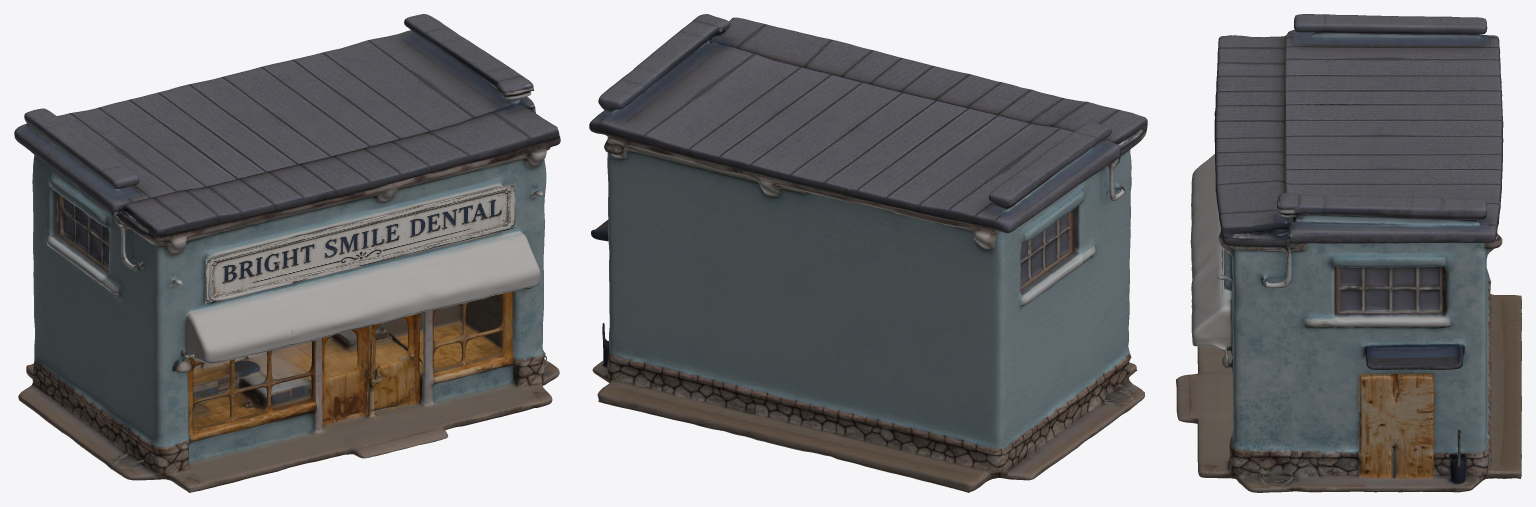
Rendered from dentist.glb.
3 views of the same model, side by side, from view 1: azimuth 30°, elevation 25°; view 2: azimuth 150°, elevation 25°; view 3: azimuth 270°, elevation 25° (orthographic). The views are drawn at different scales.
Visible parts, largest first — view 1: tripo_node_7d48dc81-084b-4b32-9c10-63eb296da616, Plane; view 2: tripo_node_7d48dc81-084b-4b32-9c10-63eb296da616; view 3: tripo_node_7d48dc81-084b-4b32-9c10-63eb296da616.
Part boxes in pixels (x1=…): tripo_node_7d48dc81-084b-4b32-9c10-63eb296da616: x1=14, y1=14, x2=560, y2=492; Plane: x1=205, y1=183, x2=515, y2=304; tripo_node_7d48dc81-084b-4b32-9c10-63eb296da616: x1=589, y1=14, x2=1147, y2=492; tripo_node_7d48dc81-084b-4b32-9c10-63eb296da616: x1=1176, y1=14, x2=1521, y2=492.
Size of the model in its own units: 0.9982 by 0.6256 by 0.6889.
Materials: 2 (2 with a texture image).
